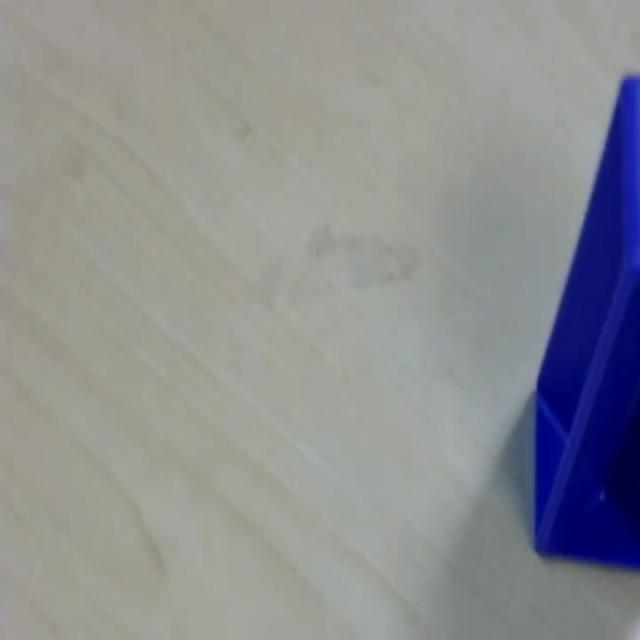blue_block: (531, 71, 639, 568)
